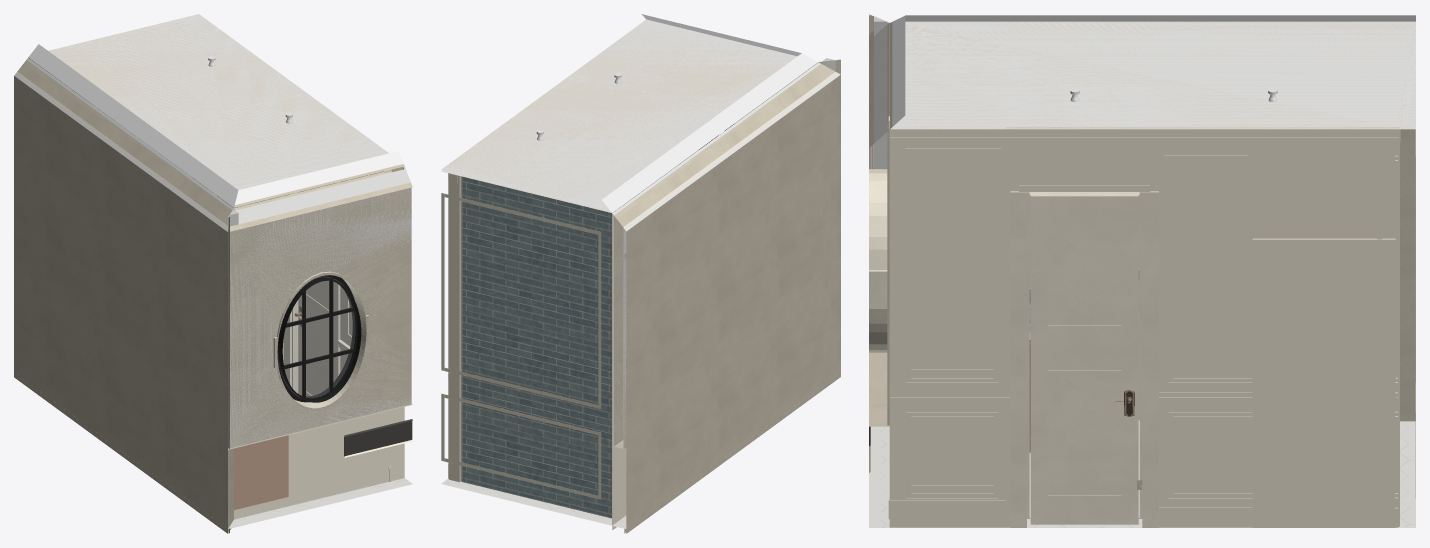
Rendered from blue-bath-831ca37c6416.glb.
3 views of the same model, side by side, from view 1: azimuth 30°, elevation 25°; view 2: azimuth 150°, elevation 25°; view 3: azimuth 270°, elevation 25° (orthographic). The views are drawn at different scales.
Visible parts, largest first — view 1: blue-bath-312b4ac1be39223d, blue-bath-bddaf205afbd60c0, blue-bath-e8793759323e04f0, blue-bath-9d91b47435c6fb33, blue-bath-33ee0b466567e5f0, blue-bath-df3e1f21720b0c39, blue-bath-2f7d8eff34a2c180, blue-bath-99b308e00d07c4e6, blue-bath-39b94aca90fa4b53, blue-bath-c700045fb7c0d89d, blue-bath-bb2a37e95c56944b, blue-bath-bf159a19de53e60e (+9 smaller); view 2: blue-bath-312b4ac1be39223d, blue-bath-81319d6284883901, blue-bath-9d91b47435c6fb33, blue-bath-e8793759323e04f0, blue-bath-33ee0b466567e5f0, blue-bath-39b94aca90fa4b53, blue-bath-ed5fdcd3ee9c0dd5, blue-bath-3a4d9d62ecd7be1c, blue-bath-06754748489735a0, blue-bath-6e269356ae8bfd70, blue-bath-b63ee86b16afd4c0, blue-bath-0e16aad907f7d881 (+1 smaller); view 3: blue-bath-9d91b47435c6fb33, blue-bath-ed5fdcd3ee9c0dd5, blue-bath-ead09a0b3f9e3bd9, blue-bath-bf159a19de53e60e, blue-bath-3e649b0d114ae387, blue-bath-e8793759323e04f0, blue-bath-8798d08755b4aa77, blue-bath-8f5d8501f6e548f5, blue-bath-6e269356ae8bfd70, blue-bath-0e16aad907f7d881, blue-bath-d8e4d1e2b1f6ec6c, blue-bath-e55ba151bf6688a8 (+18 smaller).
Part boxes in pixels (x1,y1,x2,y2): blue-bath-312b4ac1be39223d: [14, 73, 229, 449]; blue-bath-bddaf205afbd60c0: [230, 182, 411, 447]; blue-bath-e8793759323e04f0: [30, 14, 403, 204]; blue-bath-9d91b47435c6fb33: [28, 14, 404, 207]; blue-bath-33ee0b466567e5f0: [14, 293, 228, 533]; blue-bath-df3e1f21720b0c39: [229, 184, 412, 448]; blue-bath-2f7d8eff34a2c180: [228, 404, 412, 533]; blue-bath-99b308e00d07c4e6: [278, 277, 354, 397]; blue-bath-39b94aca90fa4b53: [17, 60, 238, 226]; blue-bath-c700045fb7c0d89d: [277, 275, 366, 402]; blue-bath-bb2a37e95c56944b: [234, 435, 288, 509]; blue-bath-bf159a19de53e60e: [298, 183, 335, 396]; blue-bath-312b4ac1be39223d: [624, 59, 840, 449]; blue-bath-81319d6284883901: [462, 177, 611, 518]; blue-bath-9d91b47435c6fb33: [441, 19, 817, 212]; blue-bath-e8793759323e04f0: [442, 14, 815, 210]; blue-bath-33ee0b466567e5f0: [612, 293, 840, 533]; blue-bath-39b94aca90fa4b53: [614, 58, 835, 447]; blue-bath-ed5fdcd3ee9c0dd5: [449, 173, 460, 482]; blue-bath-3a4d9d62ecd7be1c: [612, 61, 821, 446]; blue-bath-06754748489735a0: [441, 193, 601, 408]; blue-bath-6e269356ae8bfd70: [441, 170, 618, 524]; blue-bath-b63ee86b16afd4c0: [441, 393, 601, 499]; blue-bath-0e16aad907f7d881: [441, 478, 626, 528]; blue-bath-9d91b47435c6fb33: [890, 21, 1415, 129]; blue-bath-ed5fdcd3ee9c0dd5: [1005, 127, 1399, 526]; blue-bath-ead09a0b3f9e3bd9: [1252, 238, 1395, 527]; blue-bath-bf159a19de53e60e: [1030, 195, 1138, 524]; blue-bath-3e649b0d114ae387: [889, 121, 1005, 499]; blue-bath-e8793759323e04f0: [892, 15, 1415, 126]; blue-bath-8798d08755b4aa77: [1010, 191, 1158, 527]; blue-bath-8f5d8501f6e548f5: [889, 129, 1398, 146]; blue-bath-6e269356ae8bfd70: [1398, 127, 1415, 527]; blue-bath-0e16aad907f7d881: [869, 421, 1415, 527]; blue-bath-d8e4d1e2b1f6ec6c: [906, 156, 998, 382]; blue-bath-e55ba151bf6688a8: [869, 169, 887, 352].
Size of the model in its own units: 1.8 by 3.04 by 3.6.
Materials: 33 (6 with a texture image).
